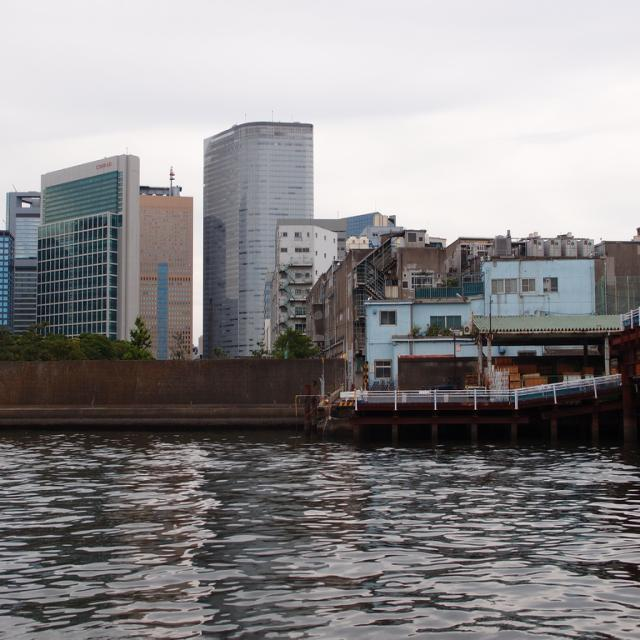Boat: (356, 282, 614, 440)
